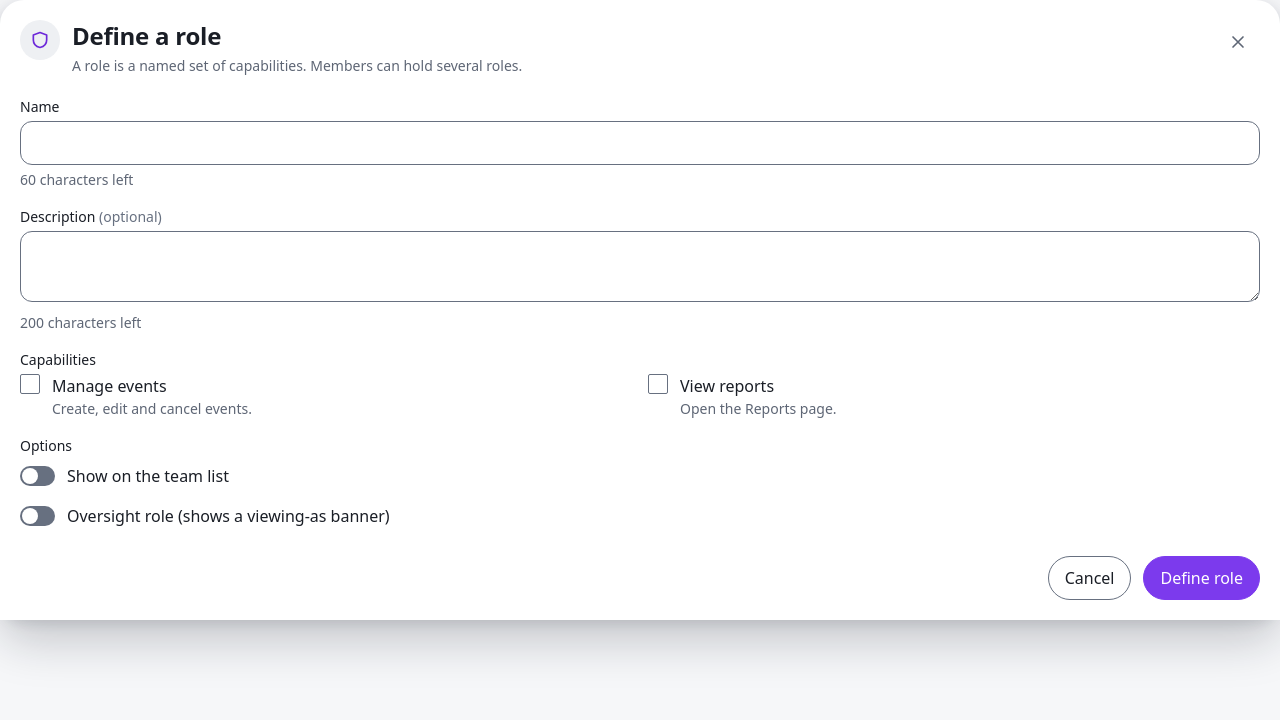
Scenario: DefineRoleDialogComponent › shows a refusal inside the dialog and a field error on its field
Type "Volunteer" into the field labelled "Name" at [640, 143], box left=20, top=121, right=1260, bottom=165
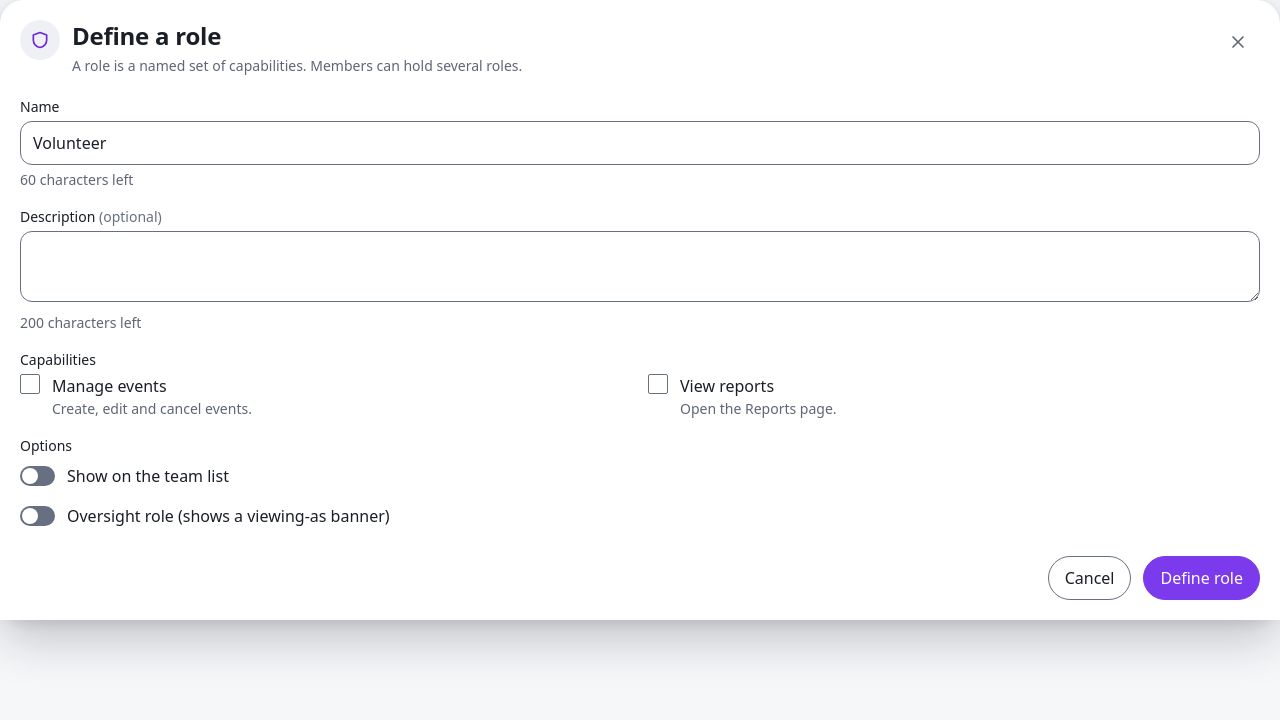
Click the button "Define role" at [1202, 578], box left=1144, top=556, right=1260, bottom=600
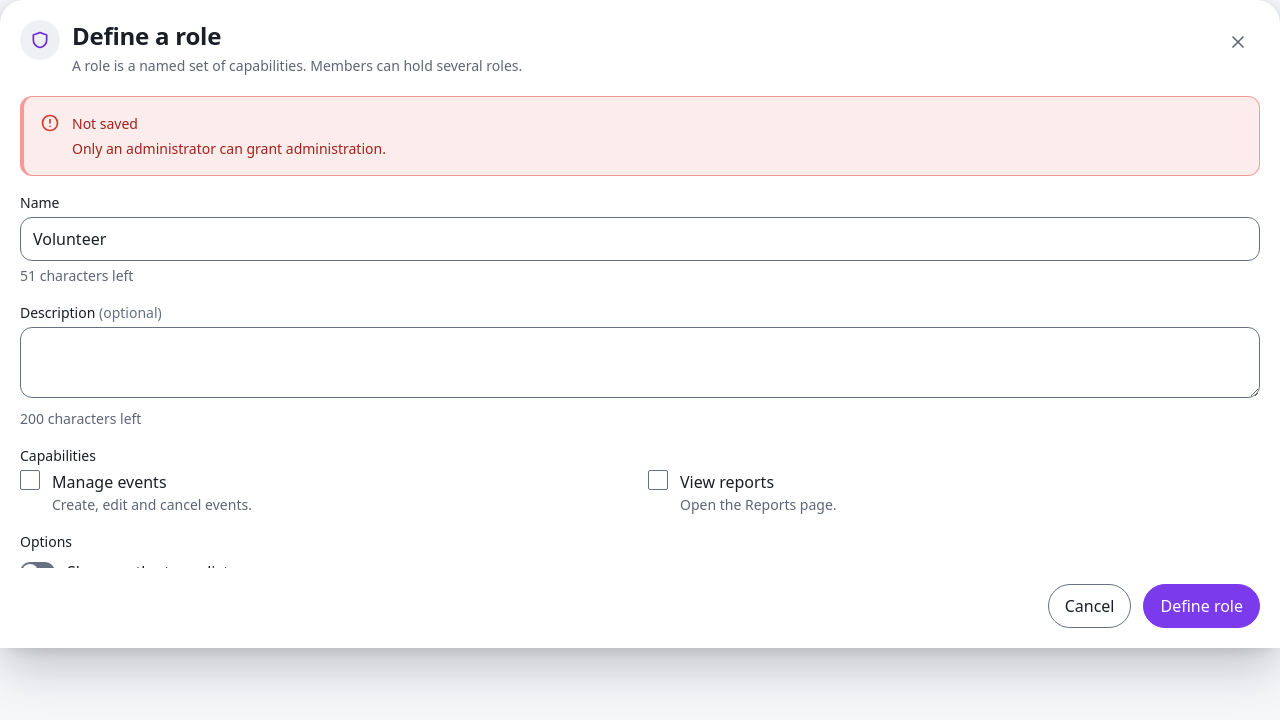
Result: the text "Not saved" is shown at left=72, top=114, right=138, bottom=133
Result: the text "Only an administrator can grant administration." is shown at left=72, top=139, right=386, bottom=158
Click the button "Define role" at [1202, 606], box left=1144, top=584, right=1260, bottom=628
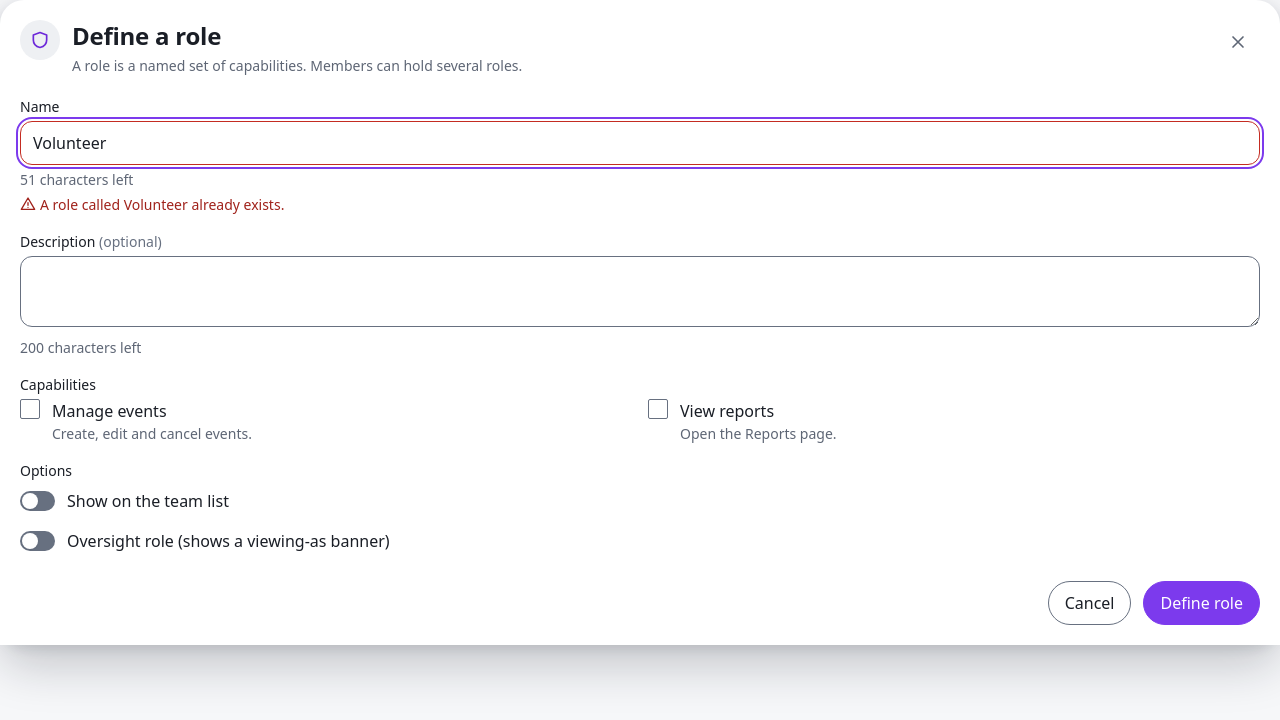
Result: the text "A role called Volunteer already exists." is shown at left=40, top=194, right=284, bottom=215
